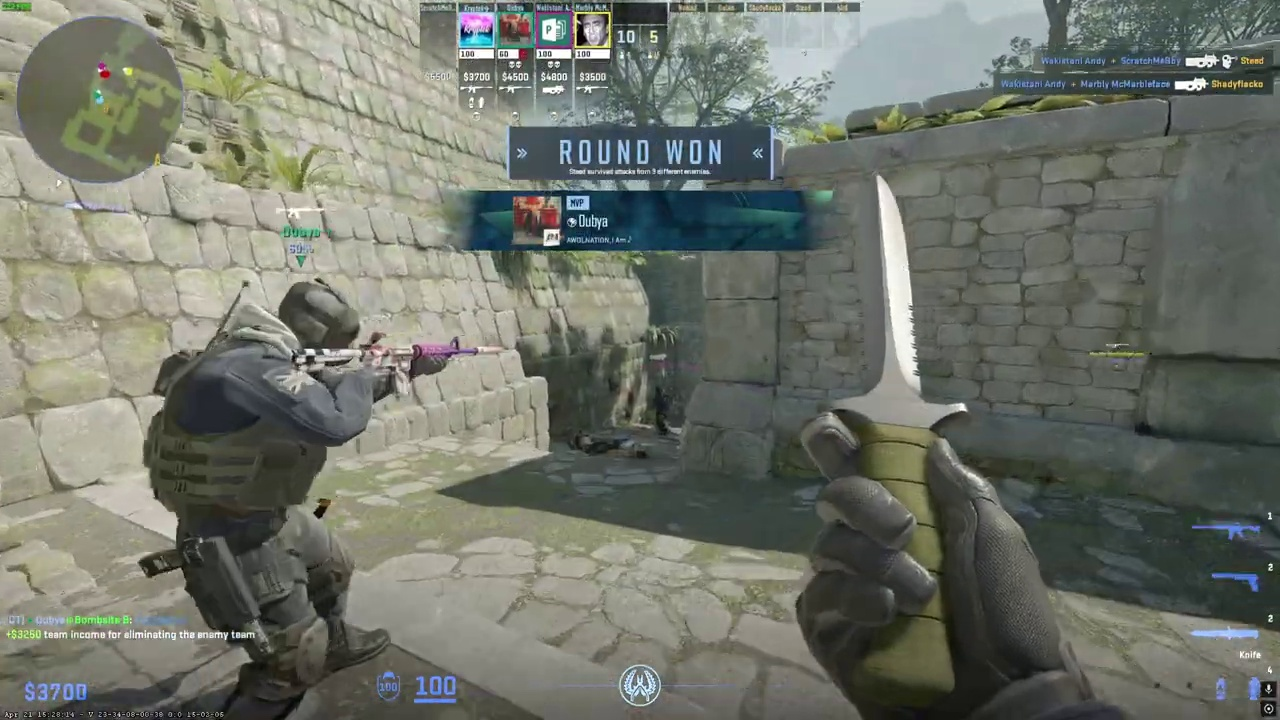CT: (146, 279, 393, 720), (651, 386, 670, 436)
